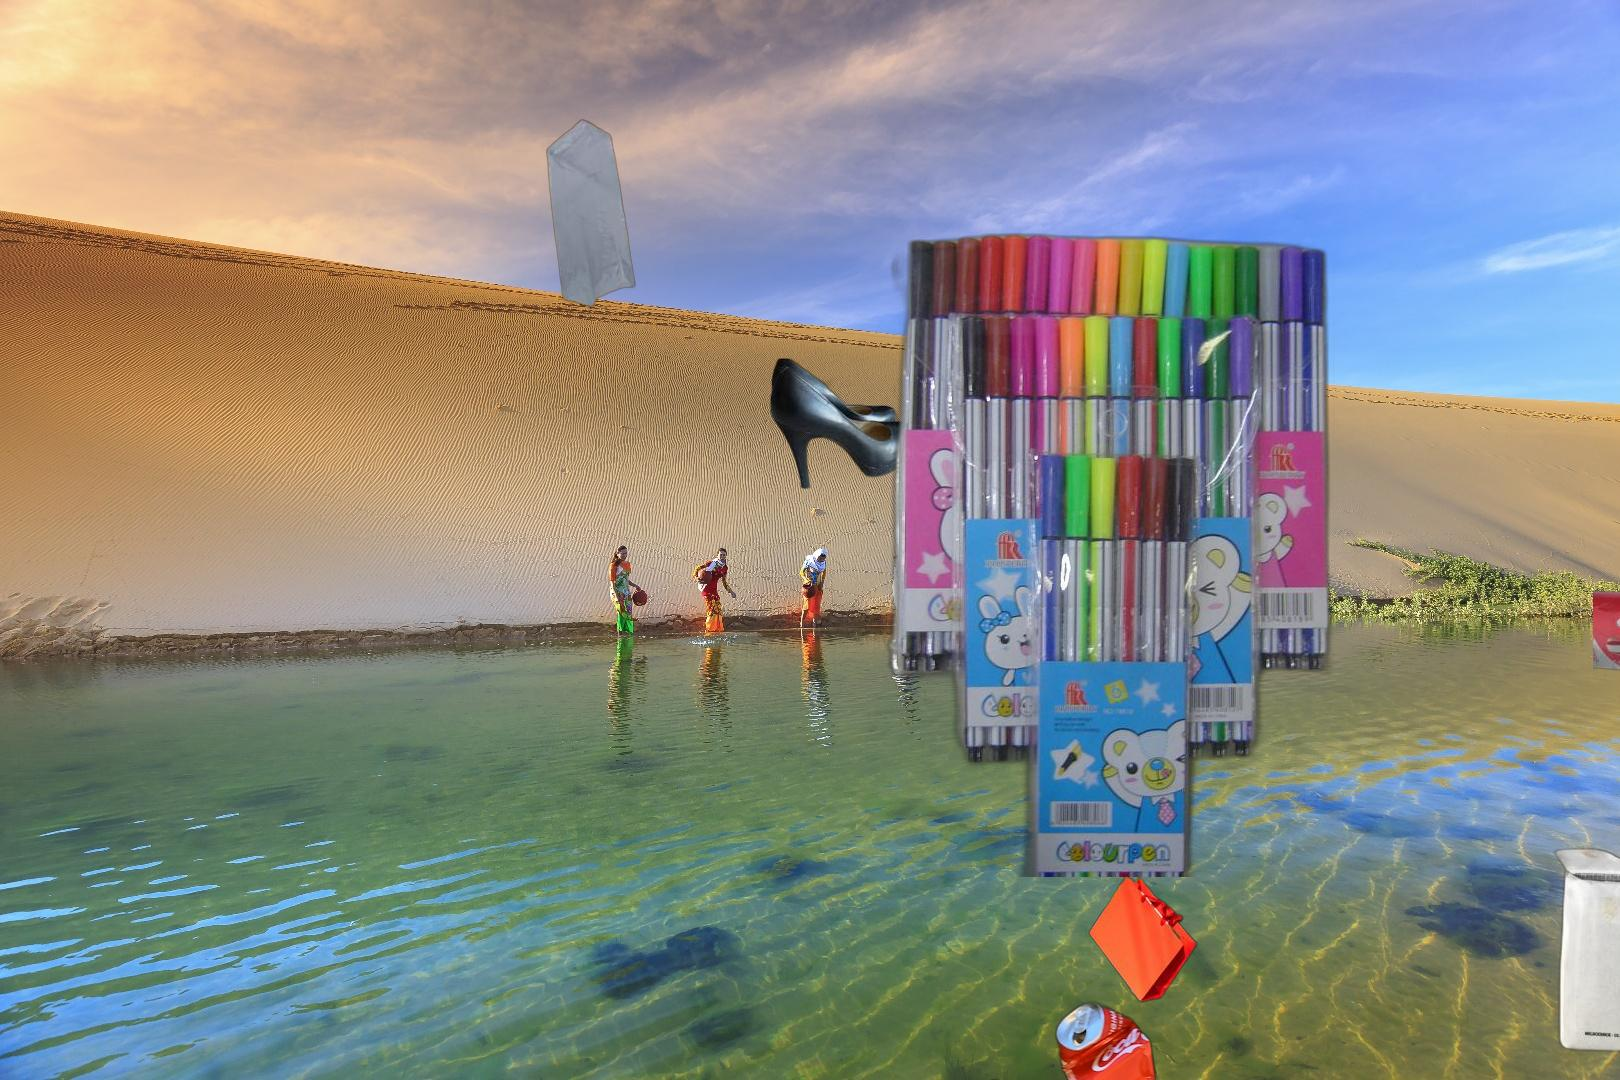glass: (1593, 468, 1620, 779)
metal-cans: (1051, 997, 1160, 1080), (1067, 758, 1156, 830)
paper: (1550, 818, 1620, 1075)
paper-bag: (1088, 873, 1201, 1005)
penholder: (879, 227, 1338, 877)
plastic-bag: (442, 118, 638, 309)
shoes: (767, 356, 918, 492)
